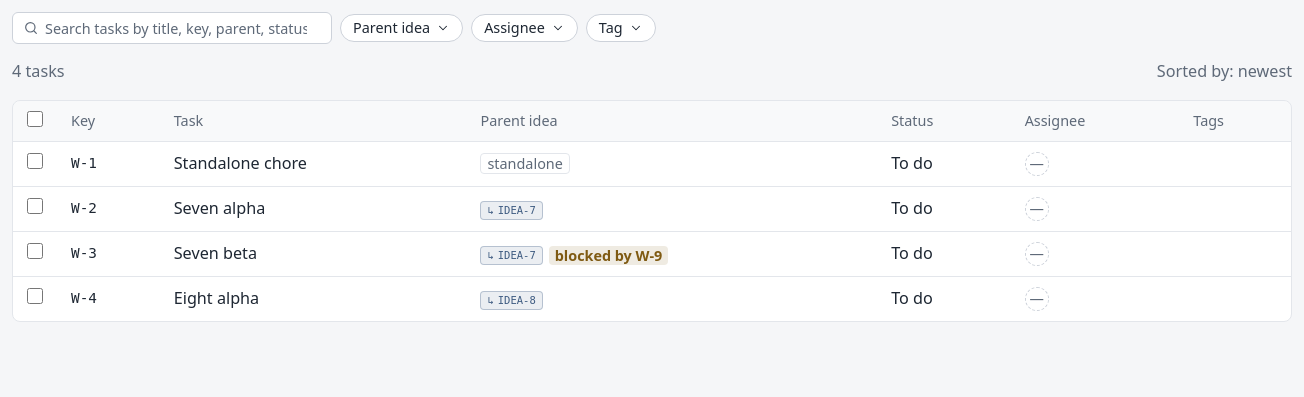
Test: Backlog selection bar sprint choice › offers only "Add to new sprint…" when no sprint is open
Step 1. Click the checkbox named "Select W-1" → point(35, 161), box [27, 153, 43, 169]
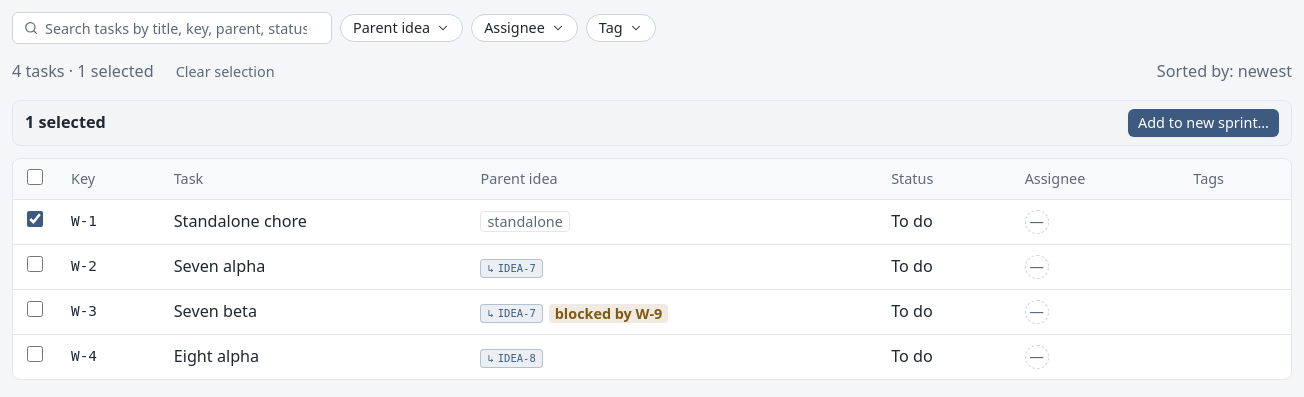
Now the button "Add to new sprint…" is shown, box [1128, 109, 1279, 137]
